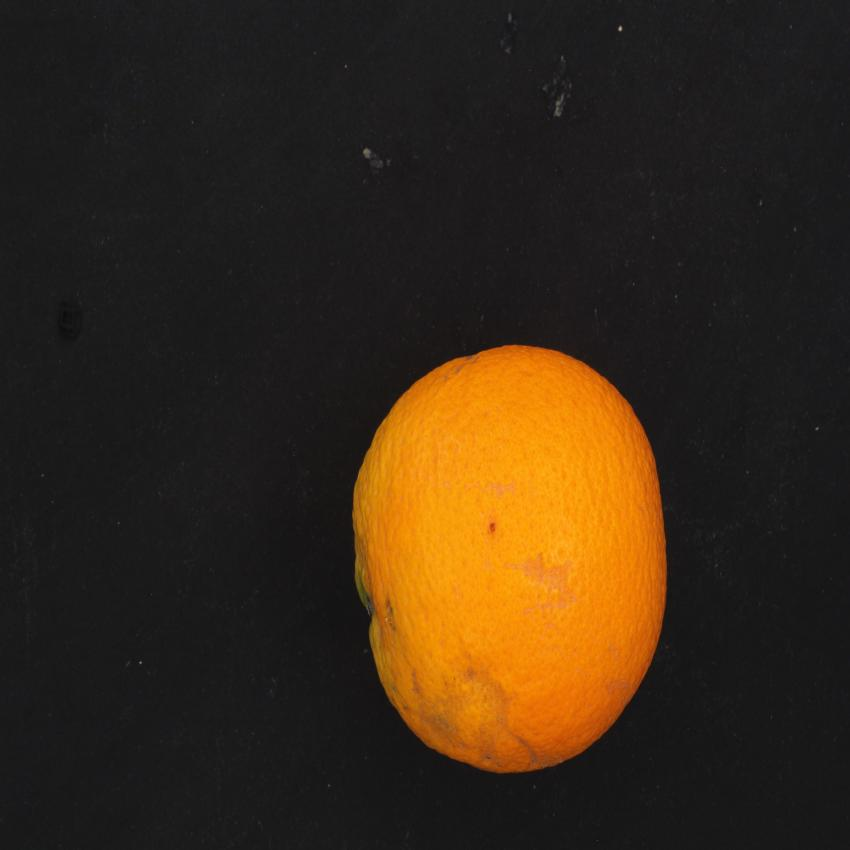Buen estado: (340, 332, 683, 783)
